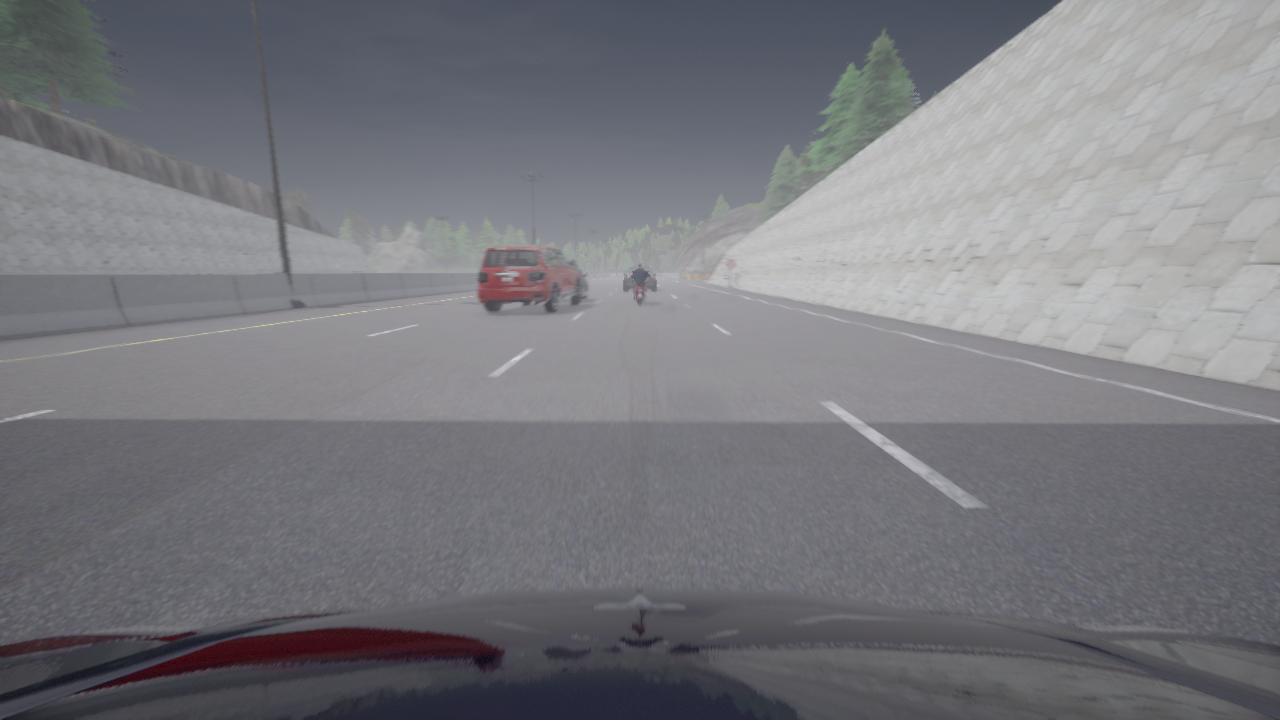cyclist: (0, 588, 1279, 719), (478, 246, 581, 312), (624, 266, 655, 290), (629, 272, 650, 304), (574, 265, 587, 302)
